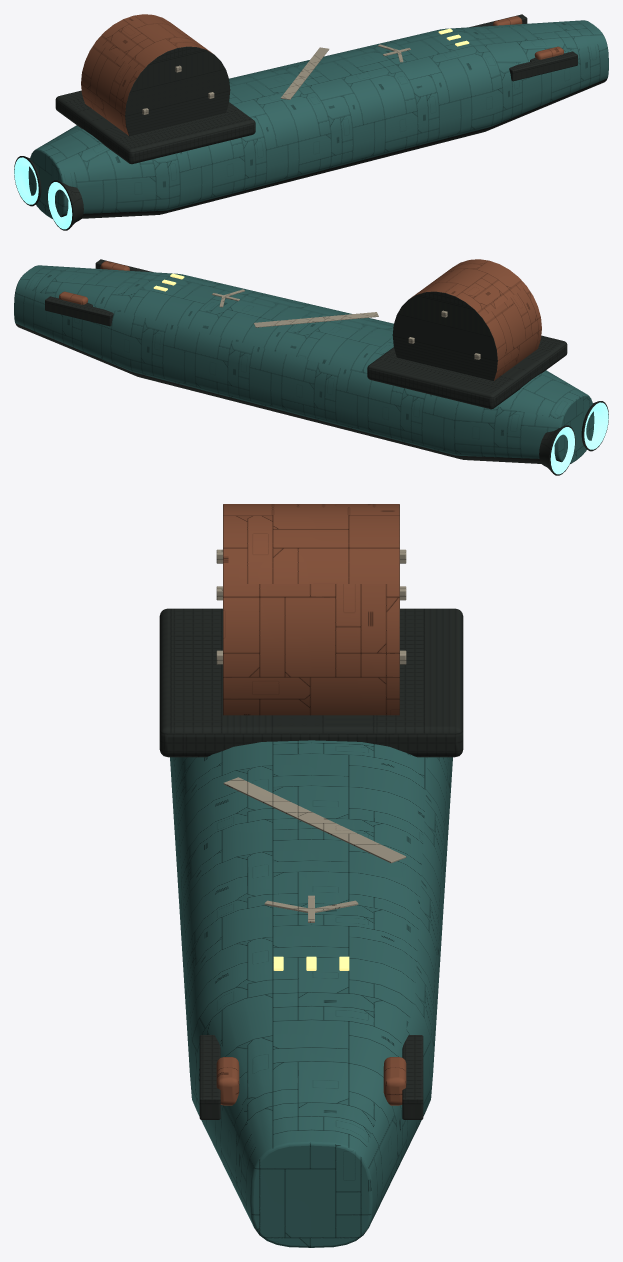
File: towline_odo.glb
3 views of the same model, one above another, from view 1: azimuth 30°, elevation 25°; view 2: azimuth 150°, elevation 25°; view 3: azimuth 270°, elevation 25° (orthographic). The views are drawn at different scales.
Parts seen in each view (by area): view 1: LOD0_Hull, LOD0_MechanicalDark, LOD0_MOTION_TOWLINE_WINCH_MechanicalDark, LOD0_MOTION_TOWLINE_WINCH_Armor, LOD0_HOOK_DRIVE_CORE, LOD0_Livery, LOD0_Armor; view 2: LOD0_Hull, LOD0_MechanicalDark, LOD0_MOTION_TOWLINE_WINCH_MechanicalDark, LOD0_MOTION_TOWLINE_WINCH_Armor, LOD0_HOOK_DRIVE_CORE, LOD0_Livery, LOD0_Armor; view 3: LOD0_Hull, LOD0_MOTION_TOWLINE_WINCH_Armor, LOD0_MechanicalDark, LOD0_Livery, LOD0_Armor.
Part boxes in pixels (x1,y1,x2,y2): LOD0_Hull: [28, 20, 608, 218]; LOD0_MechanicalDark: [14, 14, 607, 230]; LOD0_MOTION_TOWLINE_WINCH_MechanicalDark: [125, 46, 230, 135]; LOD0_MOTION_TOWLINE_WINCH_Armor: [81, 14, 212, 135]; LOD0_HOOK_DRIVE_CORE: [14, 157, 72, 229]; LOD0_Livery: [280, 44, 410, 99]; LOD0_Armor: [493, 16, 563, 59]; LOD0_Hull: [14, 265, 594, 463]; LOD0_MechanicalDark: [15, 259, 608, 475]; LOD0_MOTION_TOWLINE_WINCH_MechanicalDark: [392, 291, 497, 380]; LOD0_MOTION_TOWLINE_WINCH_Armor: [410, 259, 541, 380]; LOD0_HOOK_DRIVE_CORE: [550, 402, 608, 474]; LOD0_Livery: [212, 289, 378, 327]; LOD0_Armor: [59, 261, 129, 304]; LOD0_Hull: [170, 740, 452, 1247]; LOD0_MOTION_TOWLINE_WINCH_Armor: [223, 504, 399, 715]; LOD0_MechanicalDark: [159, 608, 463, 1235]; LOD0_Livery: [223, 777, 406, 922]; LOD0_Armor: [216, 1057, 406, 1105].
Size of what is drawn, in the model's own units: 25.12 by 7.15 by 6.
Materials: 6 (4 with a texture image).
